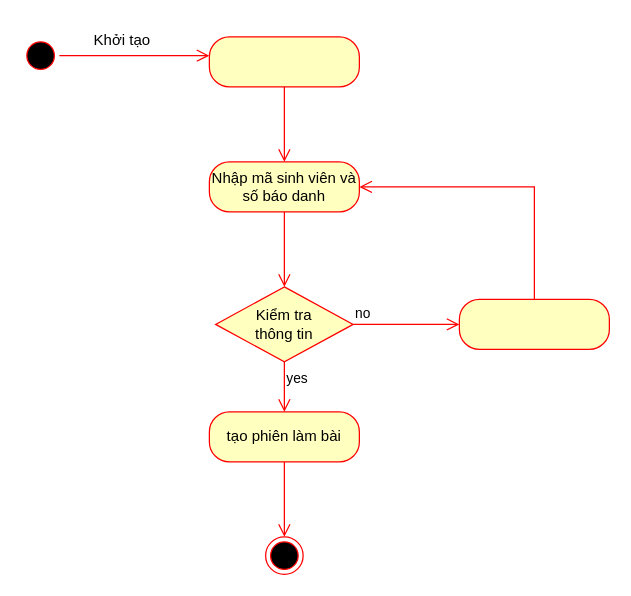
This 631x596 diagram has some shape labels left out. The box of each missing label's shape, as (x1, y1, x2, y2) in pixels:
Màn hình kiểm tra thông tin: (208, 36, 359, 87)
Thông báo sai thông tin: (458, 298, 609, 349)
